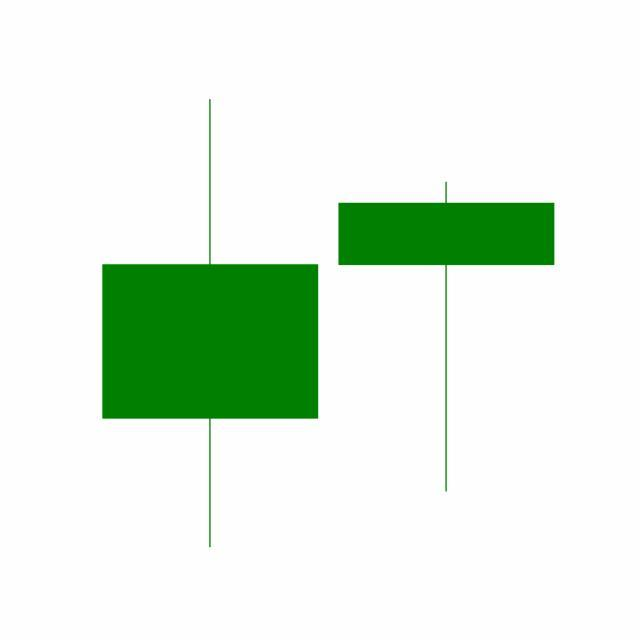Dragonfly Doji: (328, 179, 566, 496)
